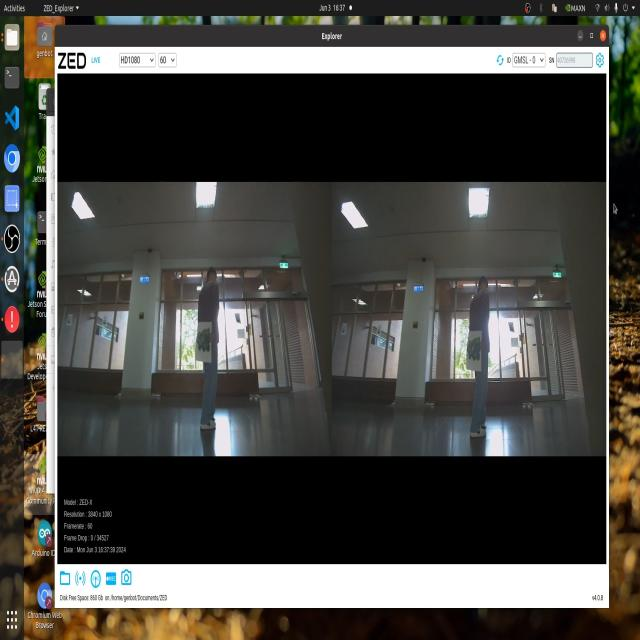green: (193, 322, 216, 358), (462, 332, 484, 366)
